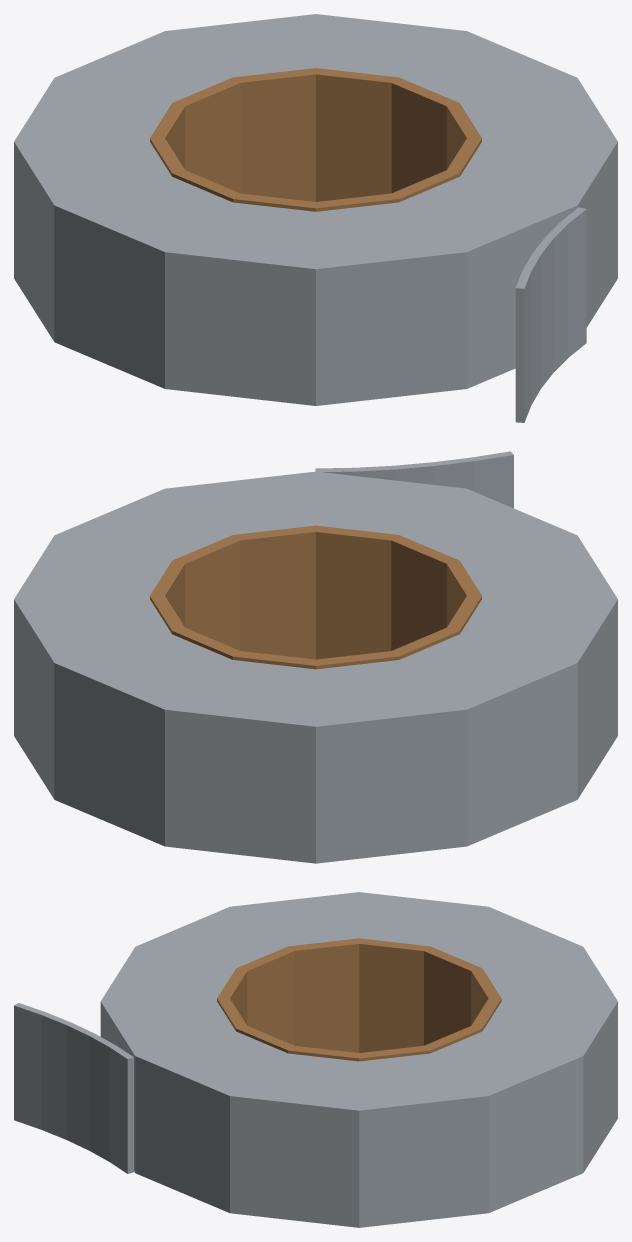
Rendered from tasma-klejaca-BA_bwaf4.glb.
The picture shows the model from 3 angles, top to bottom: view 1: azimuth 30°, elevation 25°; view 2: azimuth 150°, elevation 25°; view 3: azimuth 270°, elevation 25°; orthographic projection. The views are drawn at different scales.
Visible parts, largest first — view 1: TasmaKlejaca, Flap; view 2: TasmaKlejaca, Flap; view 3: TasmaKlejaca, Flap.
Boxes of the visible parts, x1,y1,x2,y2 form: TasmaKlejaca: (14, 14, 617, 405); Flap: (515, 207, 586, 422); TasmaKlejaca: (14, 471, 617, 863); Flap: (315, 451, 513, 508); TasmaKlejaca: (100, 892, 617, 1227); Flap: (14, 1003, 133, 1173).
Size of the model in its own units: 0.4 by 0.105 by 0.467.
